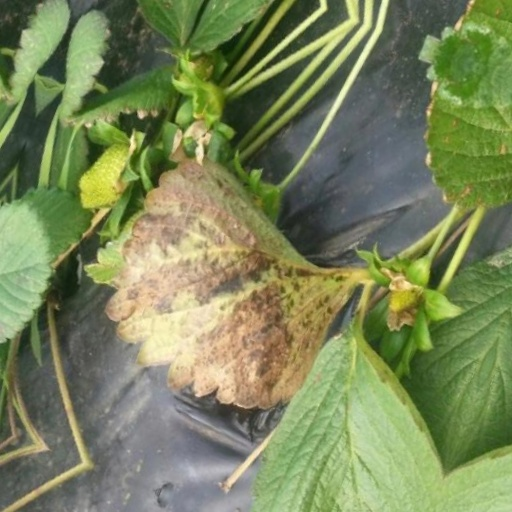Angular Leafspot: (126, 179, 363, 413)
